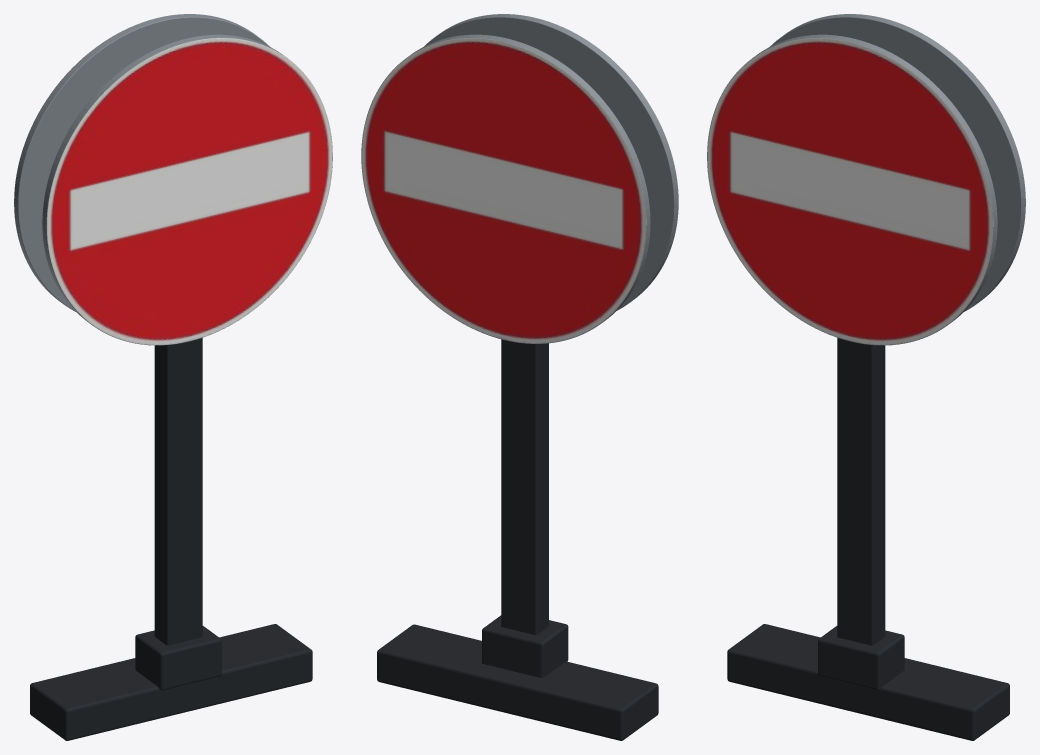
The picture shows the model from 3 angles, left to right: view 1: azimuth 30°, elevation 25°; view 2: azimuth 150°, elevation 25°; view 3: azimuth 330°, elevation 25°; orthographic projection.
Visible parts, largest first — view 1: g3, g0, g2; view 2: g3, g0, g2; view 3: g3, g0, g2.
Boxes of the visible parts, x1=… form: g3: x1=47, y1=38, x2=332, y2=345; g0: x1=30, y1=338, x2=312, y2=740; g2: x1=14, y1=14, x2=332, y2=345; g3: x1=361, y1=38, x2=646, y2=343; g0: x1=377, y1=339, x2=658, y2=740; g2: x1=361, y1=14, x2=678, y2=343; g3: x1=707, y1=38, x2=993, y2=345; g0: x1=727, y1=338, x2=1009, y2=740; g2: x1=707, y1=14, x2=1025, y2=345.
Bounding box in the file's own units: 0.1111 × 0.0265 × 0.2483.
4 materials, 1 textured.
